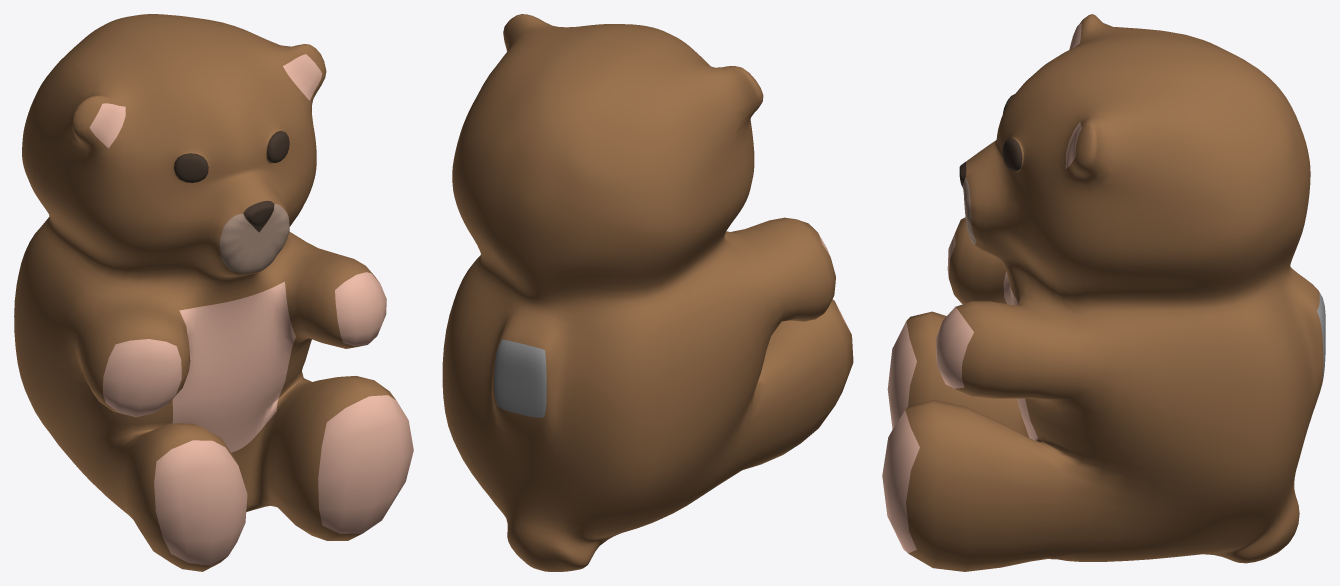
Rendered from BearPlug.fbx.
3 renders of one model, left to right at view 1: azimuth 30°, elevation 25°; view 2: azimuth 150°, elevation 25°; view 3: azimuth 270°, elevation 25°, orthographic. The views are drawn at different scales.
Visible parts, largest first — view 1: pCube2; view 2: pCube2; view 3: pCube2.
Boxes of the visible parts, box(x1,y1,x2,y2) form: pCube2: box(14, 14, 413, 571); pCube2: box(442, 14, 853, 571); pCube2: box(882, 14, 1325, 571).
Bounding box in the file's own units: 16.8 × 26.97 × 21.45.
